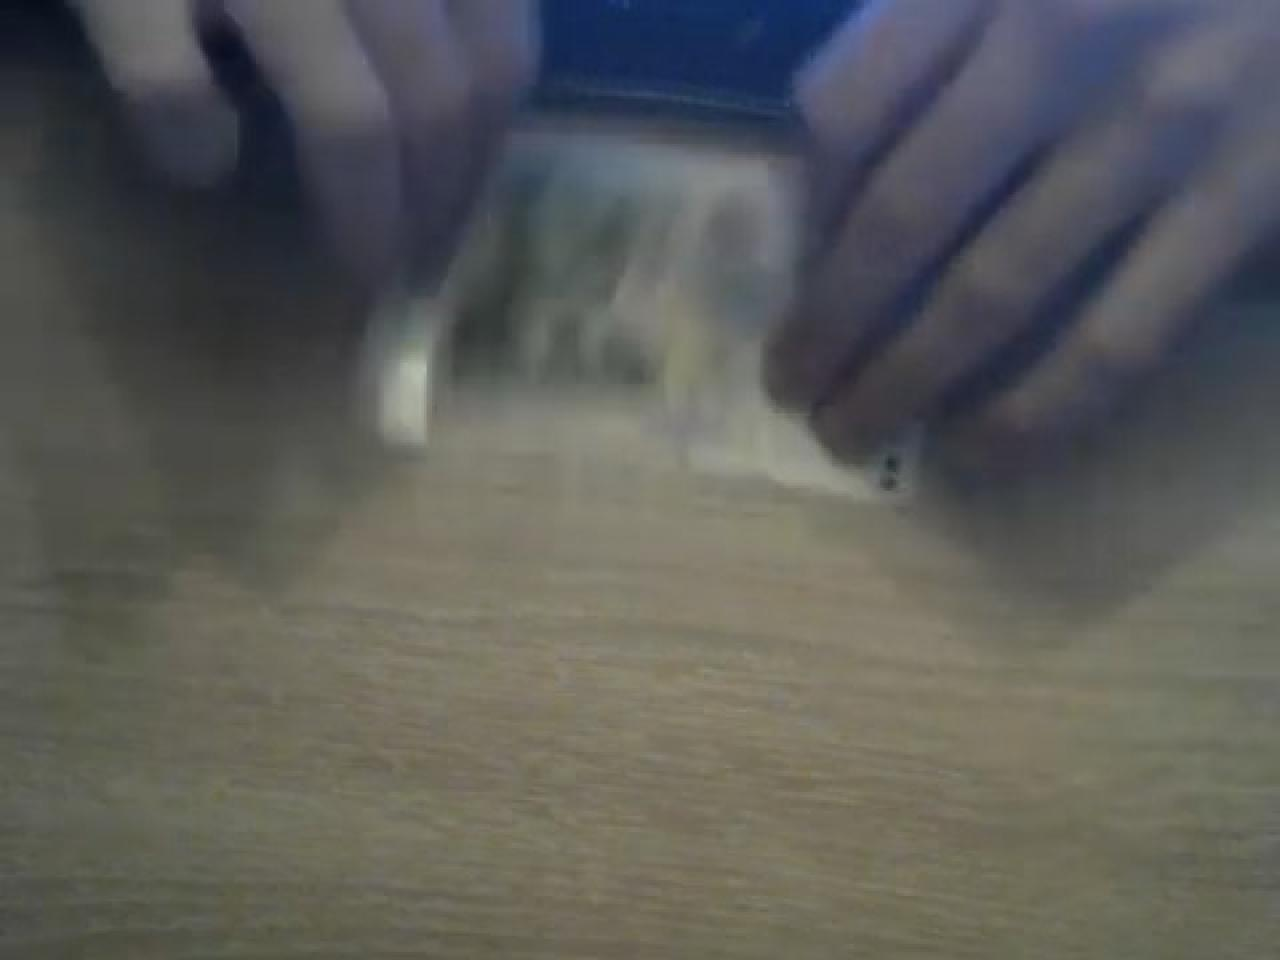10leva: (437, 72, 883, 514)
